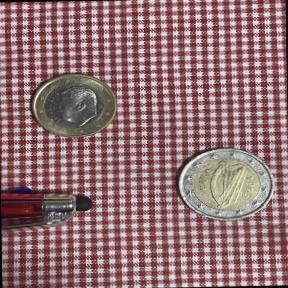1 Euro-B: (172, 142, 277, 224)
2 Euro-B: (25, 70, 120, 144)
